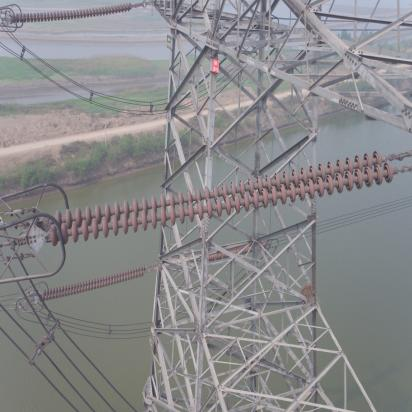insulator: (44, 148, 412, 248), (40, 263, 152, 302), (7, 1, 142, 25)
